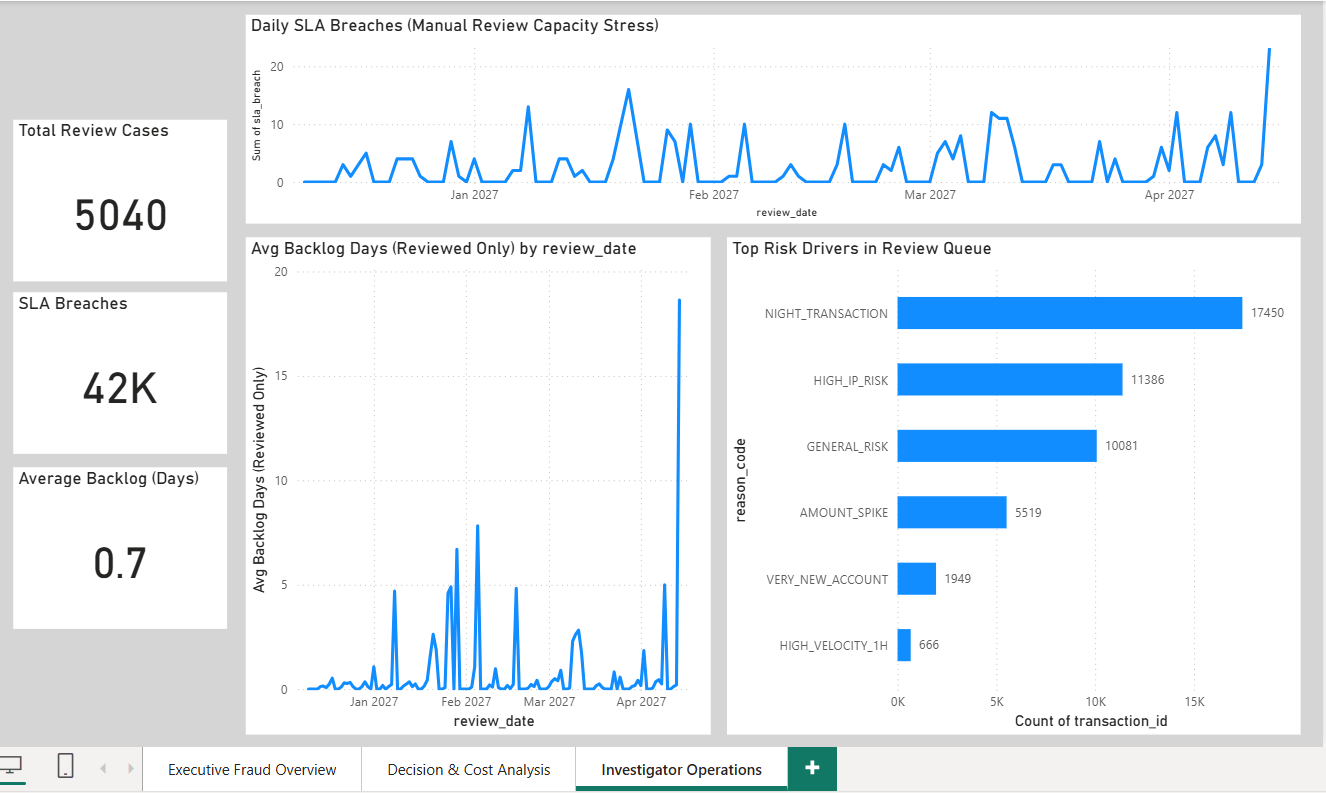

The page's visual inventory and layout, read from the dashboard file:
{"tool":"powerbi","page":{"name":"Investigator Operations","canvas":[1280,720],"ordinal":2},"visuals":[{"type":"card","title":"Total Review Cases","fields":{"Values":["case_queue.Reviewed Count"]},"box":[15.7,114.6,206.3,155.6],"z":0},{"type":"card","title":"SLA Breaches","fields":{"Values":["case_queue.SLA Breaches Count"]},"box":[15.7,281.1,206.3,155.6],"z":1000},{"type":"card","title":"Average Backlog (Days)","fields":{"Values":["case_queue.Avg Backlog Days (Reviewed Only)"]},"box":[15.7,450,206.3,155.6],"z":2000},{"type":"lineChart","title":"Daily SLA Breaches (Manual Review Capacity Stress)","fields":{"Category":["case_queue.review_date"],"Y":["Sum(case_queue.sla_breach)"]},"box":[240.1,13.3,1018.2,201.5],"z":4000},{"type":"barChart","title":"Top Risk Drivers in Review Queue","fields":{"Category":["case_queue.reason_code"],"Y":["CountNonNull(case_queue.transaction_id)"]},"box":[704.6,228,553.8,480.2],"z":5000},{"type":"lineChart","fields":{"Y":["case_queue.Avg Backlog Days"],"Category":["case_queue.review_date"]},"box":[240.1,228,448.8,480.2],"z":5001}]}

Visuals, with their boxes on the page's 1280x720 design canvas (x1, y1, x2, y2). These are canvas units, not pixel positions in the 1326x793 screenshot, which may show the page scaled, cropped or inside an application window:
"Total Review Cases" card: bbox(16, 115, 222, 270)
"SLA Breaches" card: bbox(16, 281, 222, 437)
"Average Backlog (Days)" card: bbox(16, 450, 222, 606)
"Daily SLA Breaches (Manual Review Capacity Stress)" lineChart: bbox(240, 13, 1258, 215)
"Top Risk Drivers in Review Queue" barChart: bbox(705, 228, 1258, 708)
lineChart - case_queue.Avg Backlog Days x case_queue.review_date: bbox(240, 228, 689, 708)
